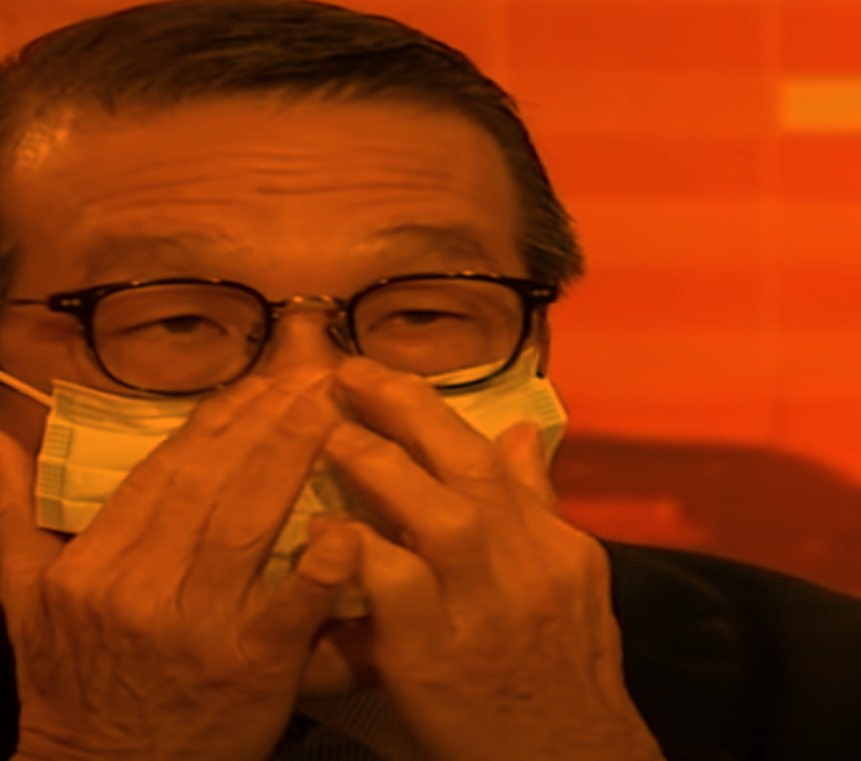mask_weared_incorrect: (1, 26, 567, 704)
